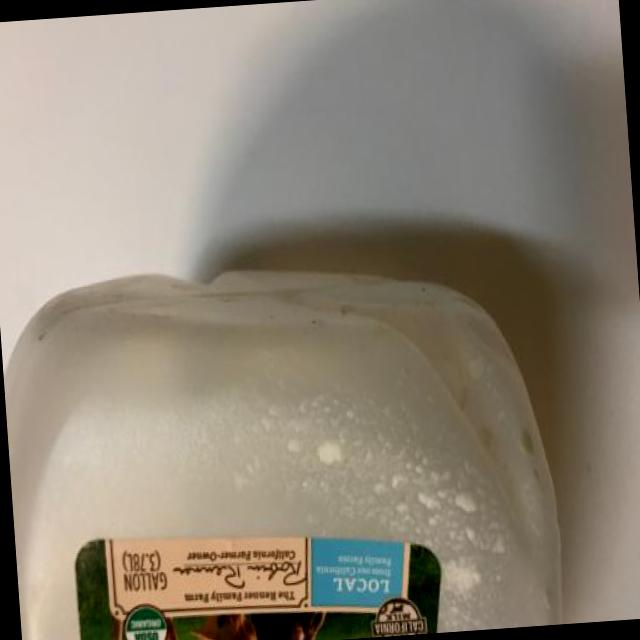Recycle: (0, 198, 564, 640)
